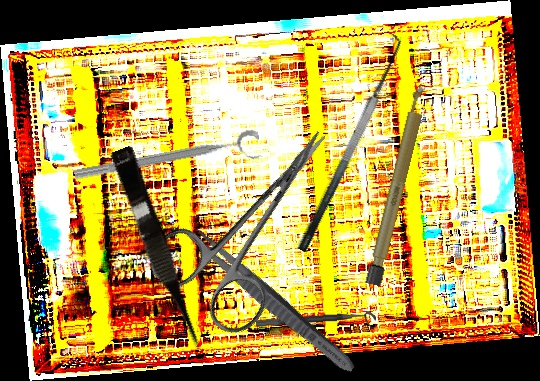Dressing Forceps: (178, 220, 361, 379)
Fixation Ring: (72, 128, 264, 196), (255, 310, 377, 338)
Iris Scissors: (141, 97, 374, 344)
Micro Scissor: (105, 145, 209, 355)
Scalpel Handle: (365, 84, 431, 287)
Spatula Surgical: (279, 30, 413, 253)
